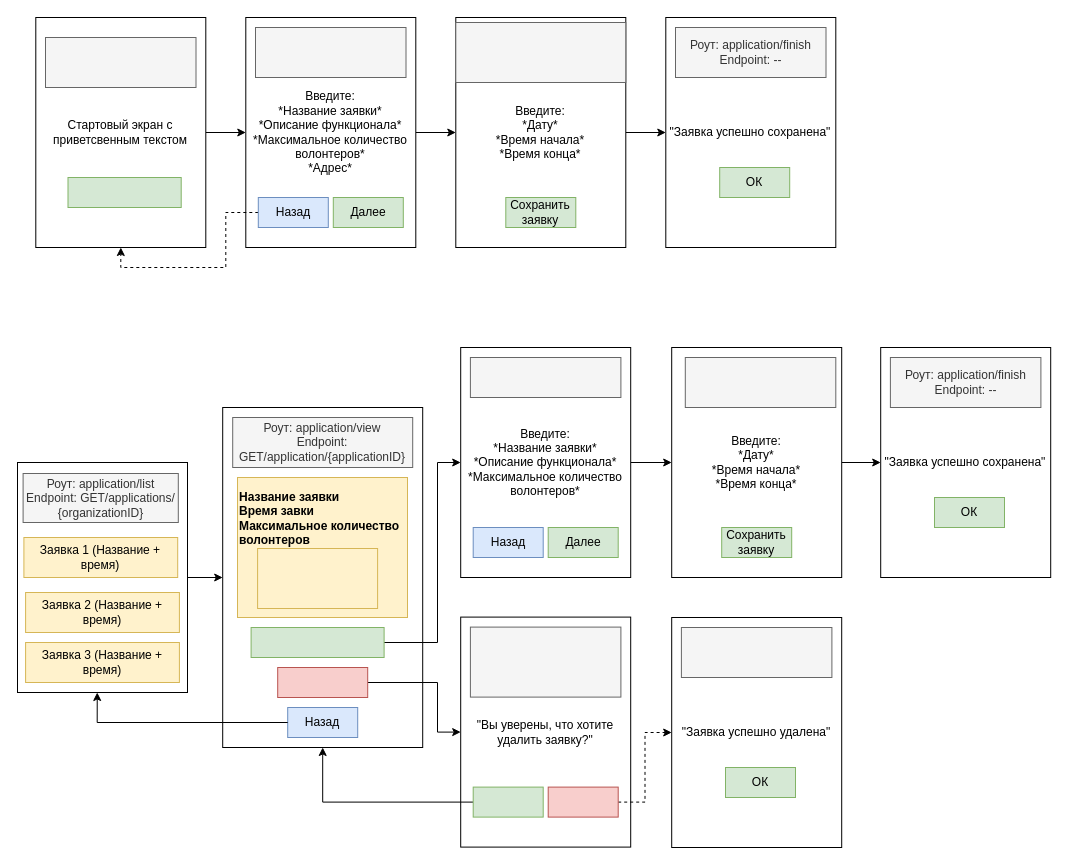
Image size: 1069x865. Some labels were removed from this diagram. Each missing label, with the centre of its shape:
"Да" belongs at (x=582, y=801).
"Нет" belongs at (x=507, y=801).
"Описание функционала" belongs at (x=317, y=578).
"Редактировать заявку" belongs at (x=317, y=642).
"Роут: application/delete Endpoint: DELETE/application/ {applicationID}" belongs at (x=545, y=661).
"Роут: createapplication/info Endpoint: --" belongs at (x=330, y=52).
"Роут: createapplication/start Endpoint: --" belongs at (x=120, y=62).
"Роут: createapplication/time Endpoint: POST/application/ {organizationID}" belongs at (x=540, y=52).
"Роут: deleteapplication/finish Endpoint: --" belongs at (x=756, y=652).
"Роут: editapplication/info Endpoint: --" belongs at (x=545, y=377).
"Роут: editapplication/time Endpoint: PUT/application/{applicationID}" belongs at (x=760, y=382).
"Создать заявку" belongs at (x=124, y=192).
"Удалить заявку" belongs at (x=322, y=682).
